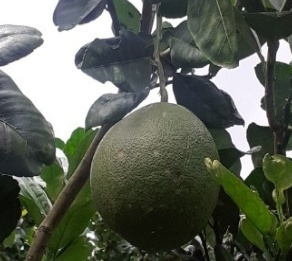Buoi: (87, 98, 222, 249)
